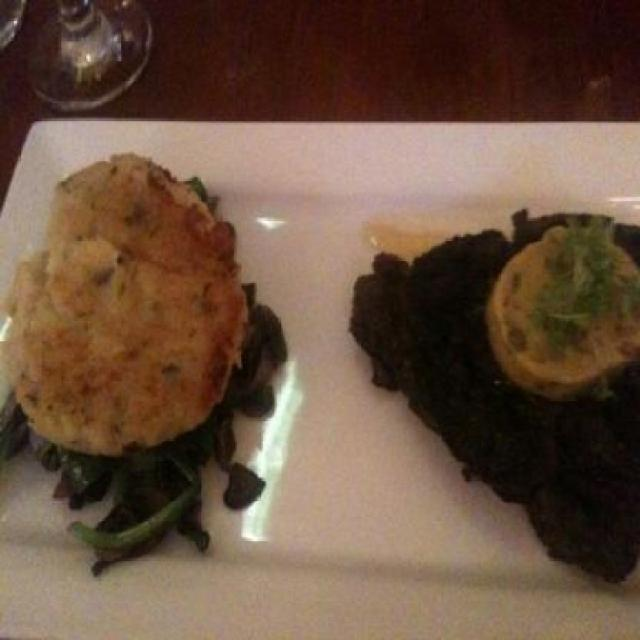Steak: (335, 188, 639, 577)
